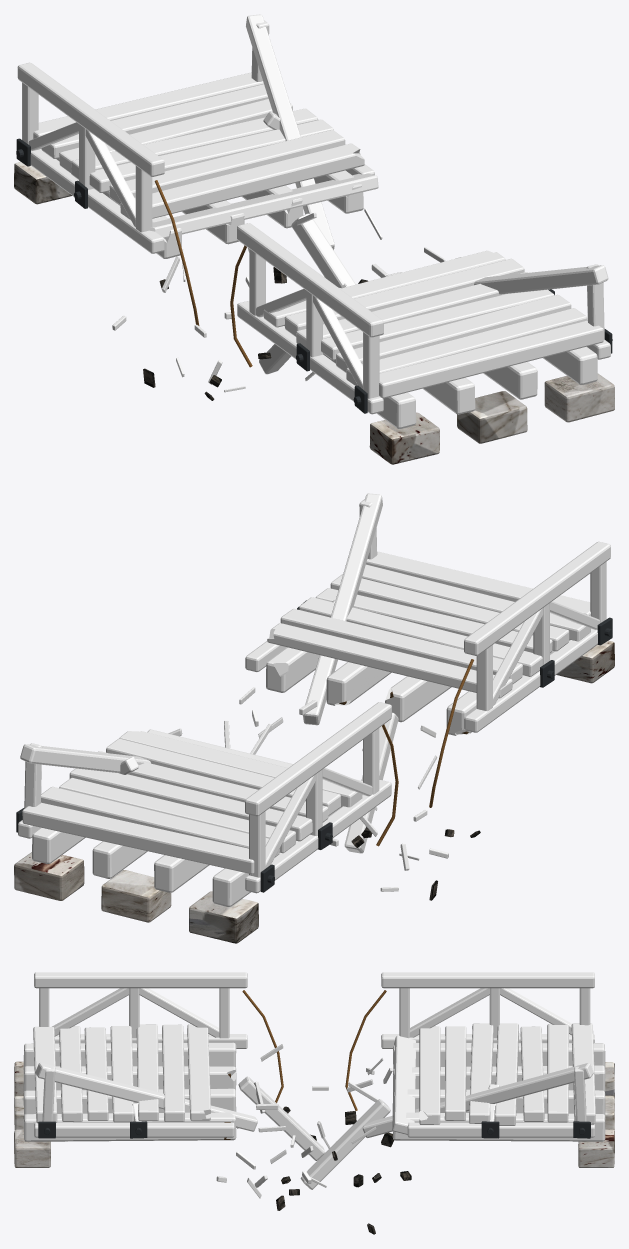
File: bridge_wood_broken_LOD0.glb
3 renders of one model, top to bottom at view 1: azimuth 30°, elevation 25°; view 2: azimuth 150°, elevation 25°; view 3: azimuth 270°, elevation 25°, orthographic. The views are drawn at different scales.
Visible parts, largest first — view 1: RupturedDeckPlank, RupturedDeckPlank.008, RupturedDeckPlank.007, RupturedDeckPlank.009, SurvivingUpperChord.001, SurvivingUpperChord, RupturedDeckPlank.002, RupturedDeckPlank.001, RupturedDeckPlank.005, RupturedDeckPlank.003, FallenUpperChord.001, RupturedDeckPlank.013 (+32 smaller); view 2: RupturedDeckPlank.014, RupturedDeckPlank.006, SurvivingUpperChord, SurvivingUpperChord.001, RupturedDeckPlank.005, FallenUpperChord, RupturedDeckPlank.013, RupturedDeckPlank.011, RupturedDeckPlank, RupturedDeckPlank.009, RupturedDeckPlank.012, RupturedDeckPlank.004 (+34 smaller); view 3: SurvivingUpperChord, SurvivingUpperChord.001, BrokenLowerChord, FallenUpperChord, FallenUpperChord.001, BrokenLowerChord.001, RupturedDeckPlank.008, RupturedDeckPlank.005, RupturedDeckPlank.009, RupturedDeckPlank.006, RupturedDeckPlank.007, RupturedDeckPlank.010 (+37 smaller).
Part boxes in pixels (<box>): RupturedDeckPlank: <box>379,320,603,398</box>; RupturedDeckPlank.008: <box>120,143,364,219</box>; RupturedDeckPlank.007: <box>149,173,378,238</box>; RupturedDeckPlank.009: <box>109,130,345,205</box>; SurvivingUpperChord.001: <box>17,62,164,176</box>; SurvivingUpperChord: <box>237,223,383,337</box>; RupturedDeckPlank.002: <box>336,294,571,372</box>; RupturedDeckPlank.001: <box>346,308,587,385</box>; RupturedDeckPlank.005: <box>284,258,524,336</box>; RupturedDeckPlank.003: <box>321,289,554,360</box>; FallenUpperChord.001: <box>246,14,334,249</box>; RupturedDeckPlank.013: <box>41,84,268,158</box>; RupturedDeckPlank.014: <box>22,802,254,874</box>; RupturedDeckPlank.006: <box>267,623,512,698</box>; SurvivingUpperChord: <box>464,541,610,655</box>; SurvivingUpperChord.001: <box>245,702,391,816</box>; RupturedDeckPlank.005: <box>280,608,522,683</box>; FallenUpperChord: <box>303,493,382,725</box>; RupturedDeckPlank.013: <box>41,786,279,857</box>; RupturedDeckPlank.011: <box>69,768,312,841</box>; RupturedDeckPlank: <box>366,551,590,615</box>; RupturedDeckPlank.009: <box>106,738,340,815</box>; RupturedDeckPlank.012: <box>59,778,295,853</box>; RupturedDeckPlank.004: <box>299,597,542,676</box>; SurvivingUpperChord: <box>34,972,247,988</box>; SurvivingUpperChord.001: <box>381,972,594,988</box>; BrokenLowerChord: <box>34,1122,234,1137</box>; FallenUpperChord: <box>35,1063,257,1131</box>; FallenUpperChord.001: <box>362,1063,593,1137</box>; BrokenLowerChord.001: <box>407,1122,594,1137</box>; RupturedDeckPlank.008: <box>419,1026,440,1124</box>; RupturedDeckPlank.005: <box>162,1024,184,1121</box>; RupturedDeckPlank.009: <box>444,1026,466,1120</box>; RupturedDeckPlank.006: <box>187,1024,210,1120</box>; RupturedDeckPlank.007: <box>392,1035,416,1134</box>; RupturedDeckPlank.010: <box>469,1023,493,1123</box>.
Bounding box in the file's own units: 4.11 × 2.5 × 8.27.
Materials: 7 (2 with a texture image).
